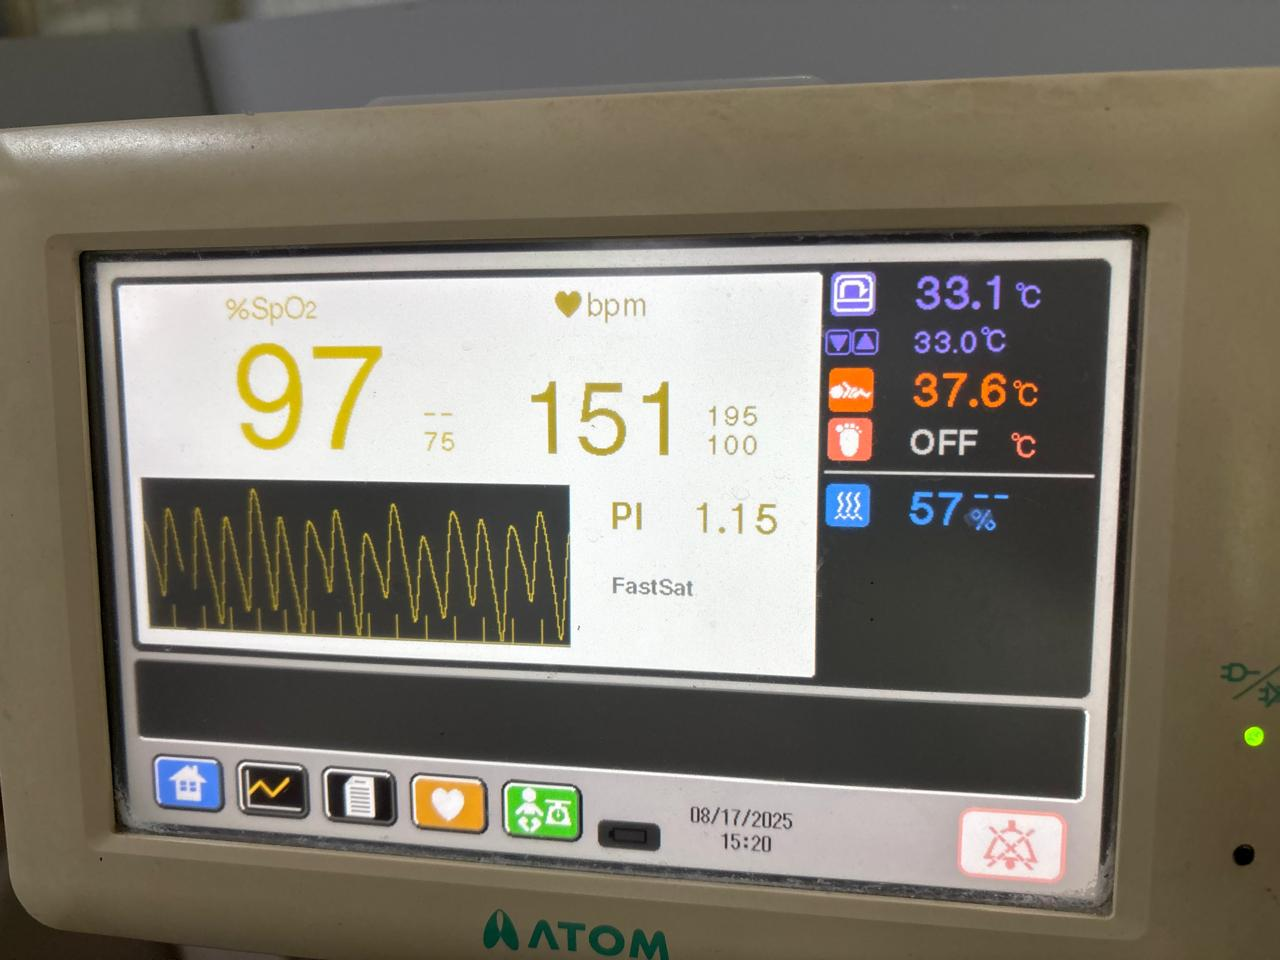heart_rate_value: (507, 362, 689, 474)
humidity_value: (895, 477, 970, 536)
skin_temp_value: (893, 362, 1012, 424)
spo2_value: (221, 330, 398, 466)
